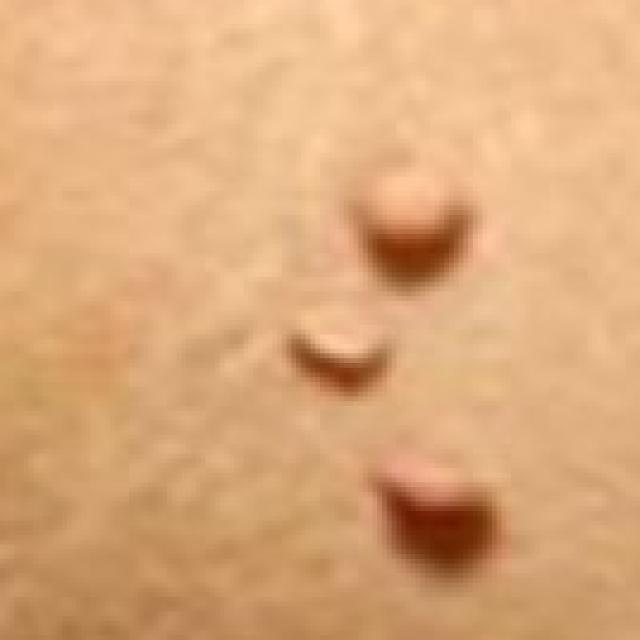wart: (362, 444, 507, 568), (343, 153, 488, 277), (282, 291, 411, 411)
